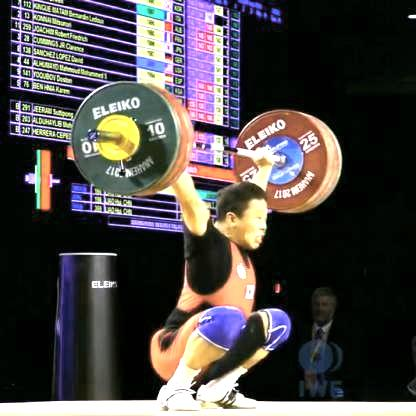Barbell: (80, 121, 135, 154)
